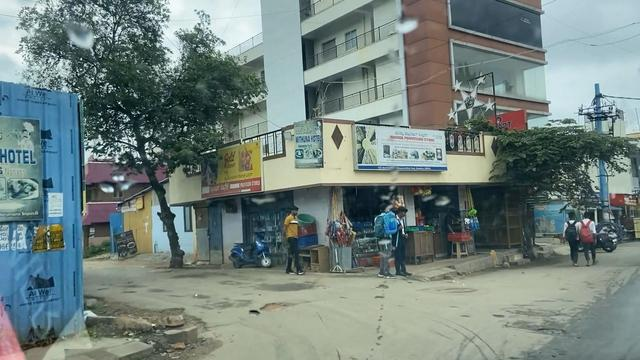RoadDamages: (149, 308, 222, 360), (508, 310, 570, 342), (256, 293, 299, 317)
